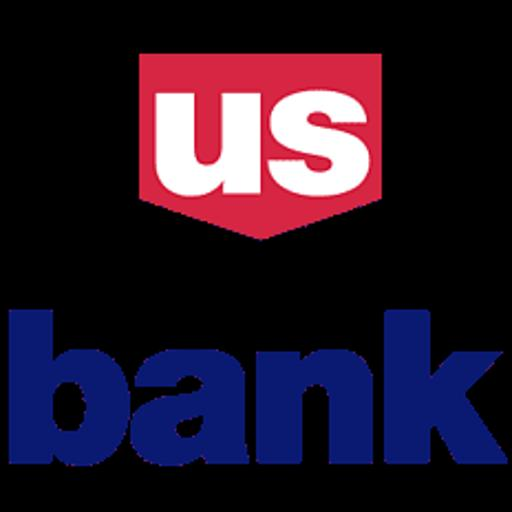U-S- Bank: (0, 36, 512, 475)
